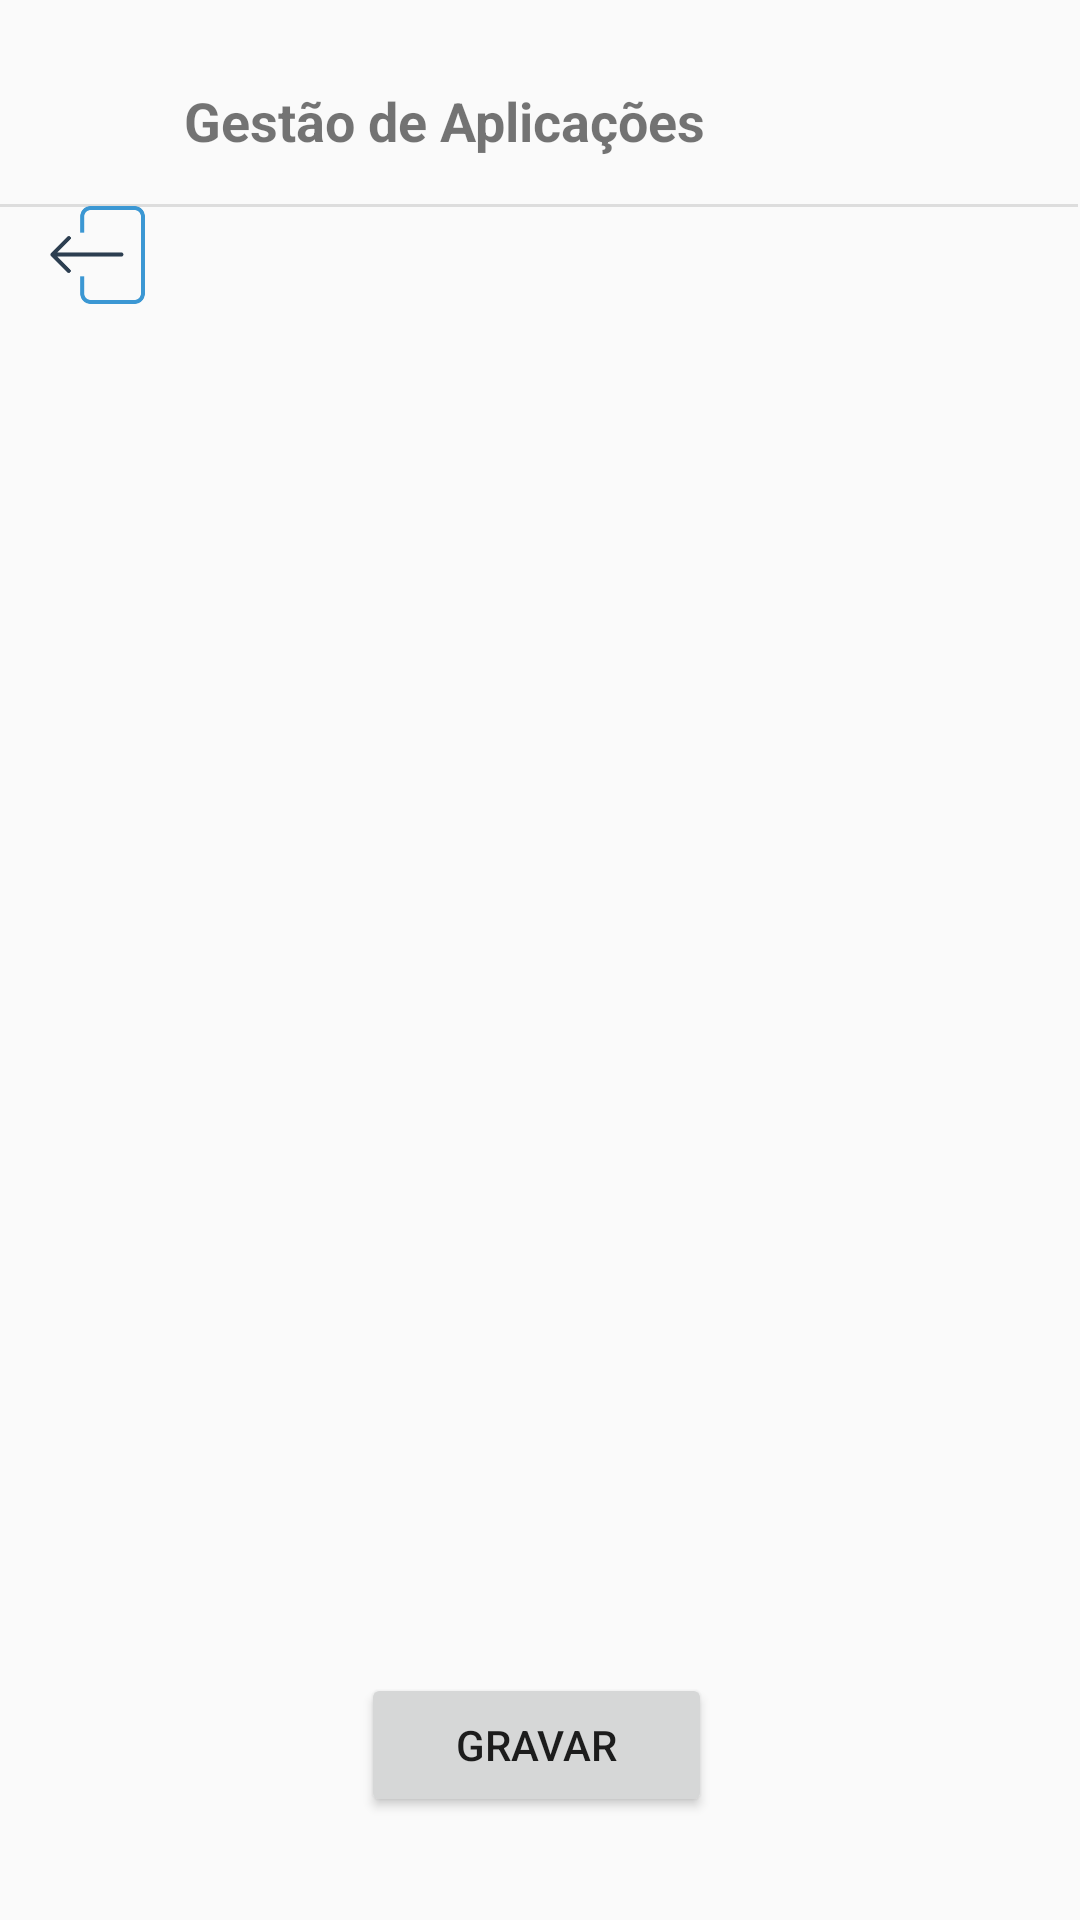

Where to tap for icons on this 1080*1920 app screen, as (x,y):
voltar: (103,254)
